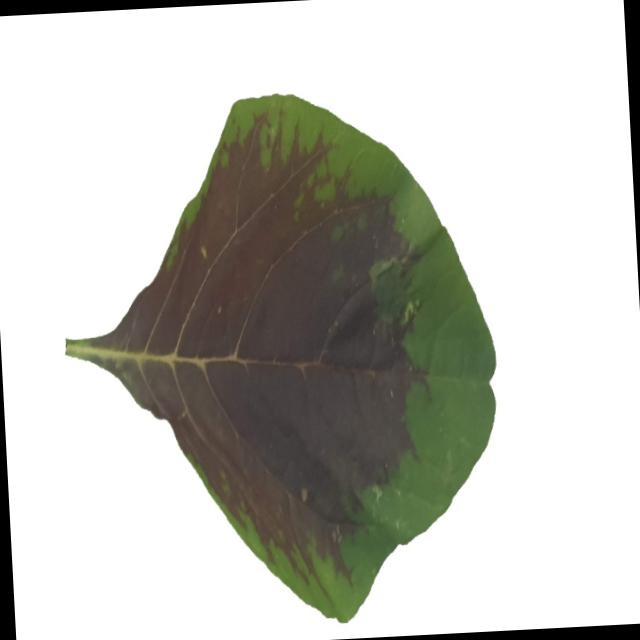Medicinal-Arive Dantu: (52, 82, 510, 637)
